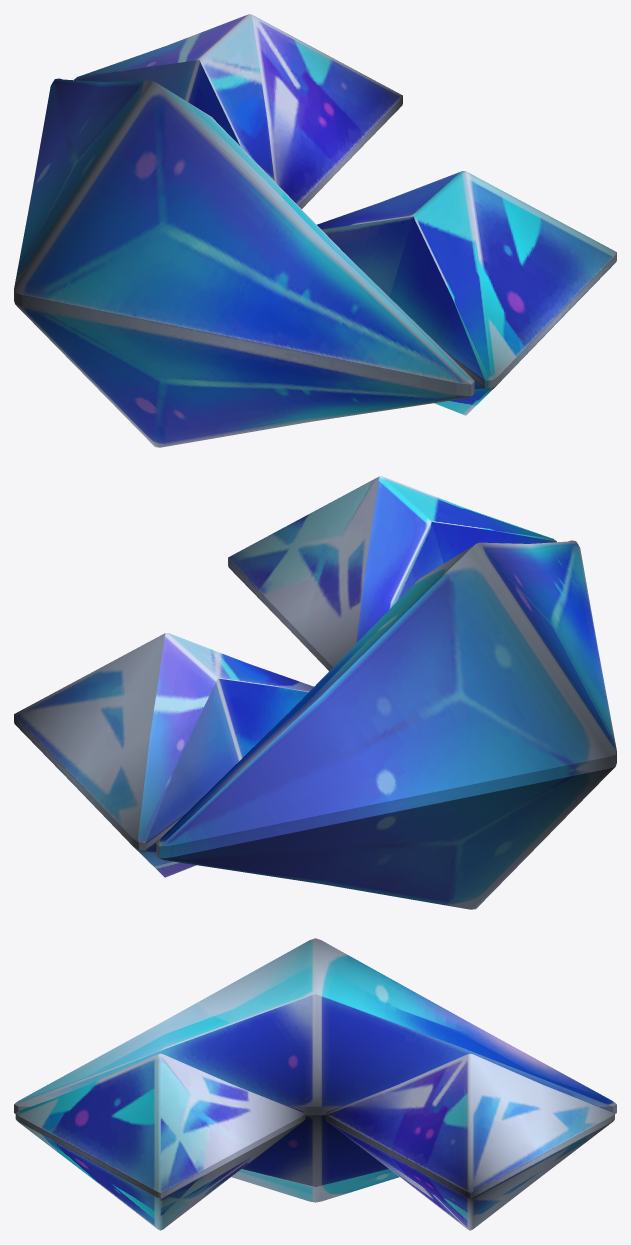
The model's file is CH_Mephisto_WP_Base01.glb.
3 views of the same model, one above another, from view 1: azimuth 30°, elevation 25°; view 2: azimuth 150°, elevation 25°; view 3: azimuth 270°, elevation 25° (orthographic). The views are drawn at different scales.
Visible parts, largest first — view 1: CH_Mephisto_WP_Base01; view 2: CH_Mephisto_WP_Base01; view 3: CH_Mephisto_WP_Base01.
Part boxes in pixels (x1=…): CH_Mephisto_WP_Base01: x1=14, y1=14, x2=616, y2=447; CH_Mephisto_WP_Base01: x1=14, y1=476, x2=616, y2=909; CH_Mephisto_WP_Base01: x1=14, y1=938, x2=616, y2=1230.
Bounding box in the file's own units: 0.2003 × 0.1413 × 0.2921.
1 material, 1 textured.
